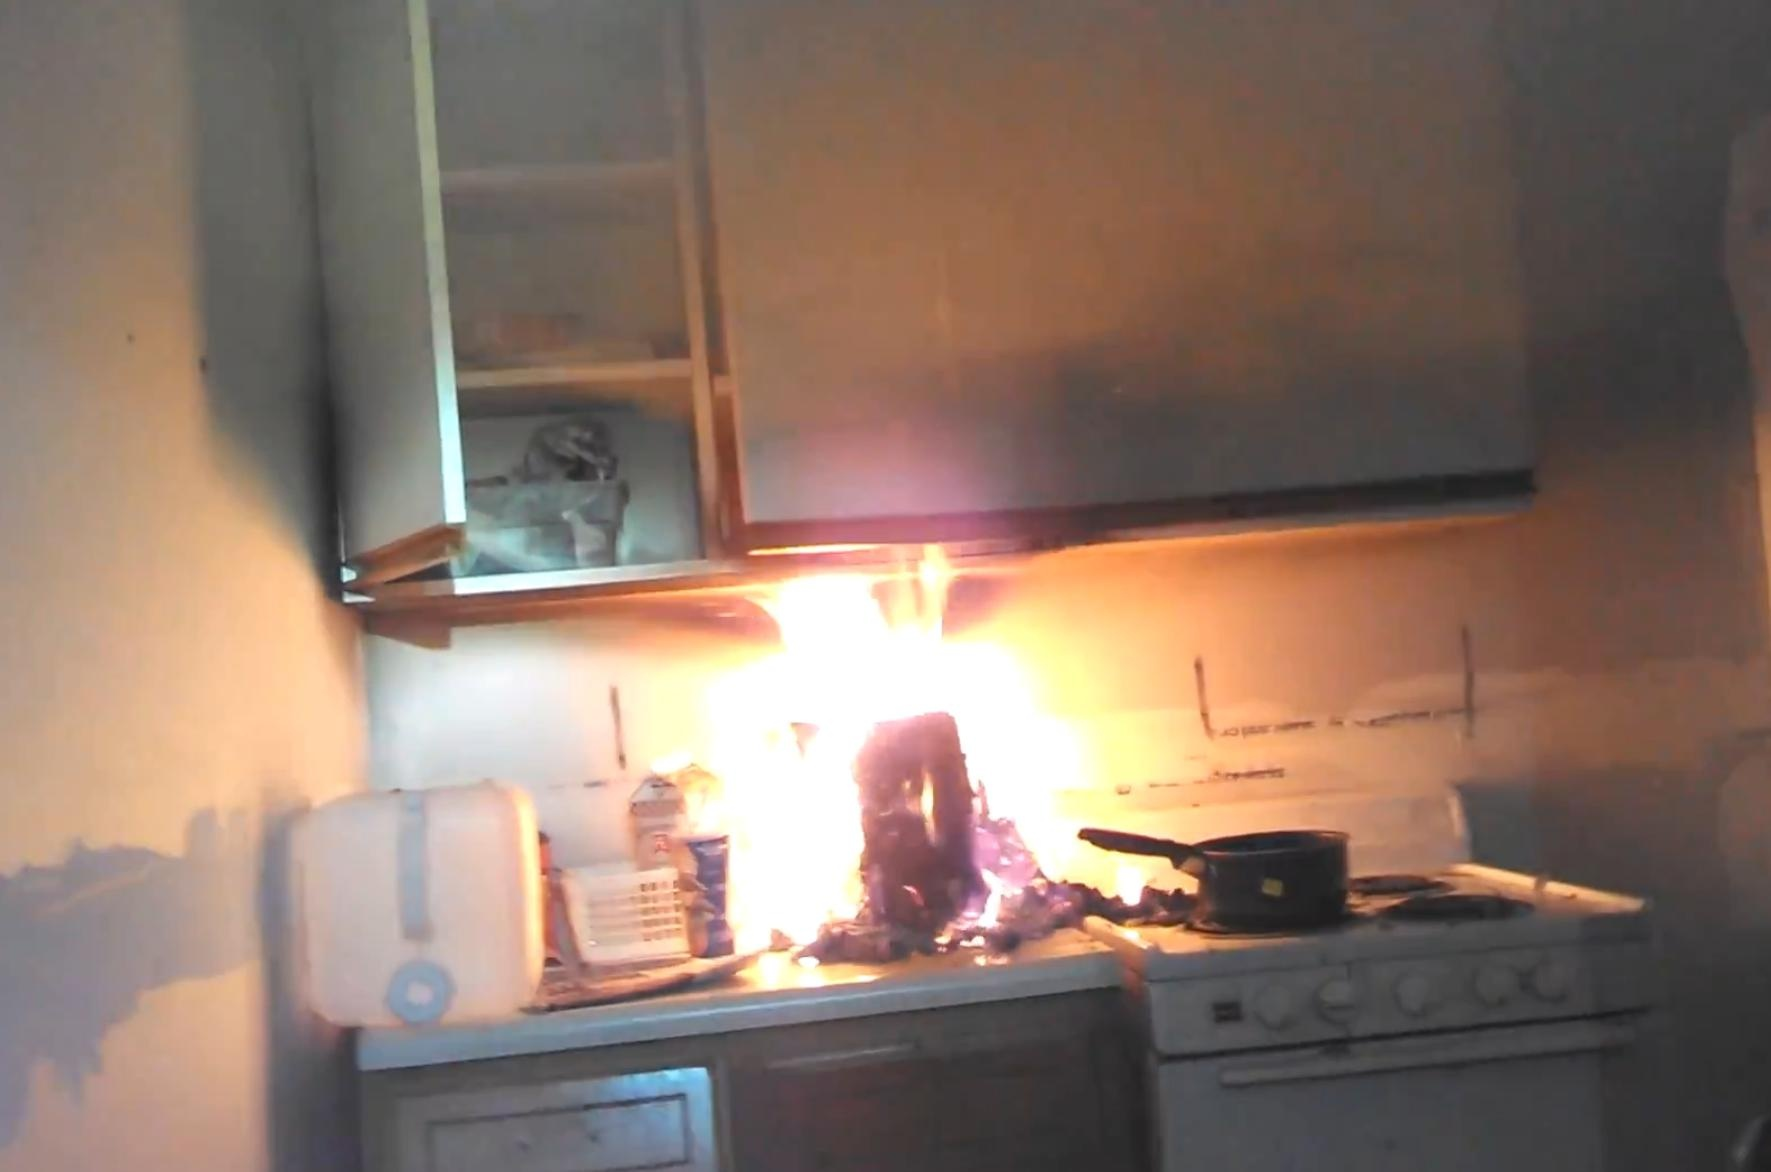fire: (664, 542, 1175, 981)
